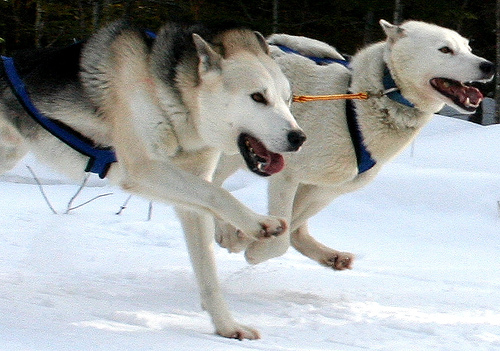dog: (0, 13, 308, 341), (214, 18, 495, 273)
